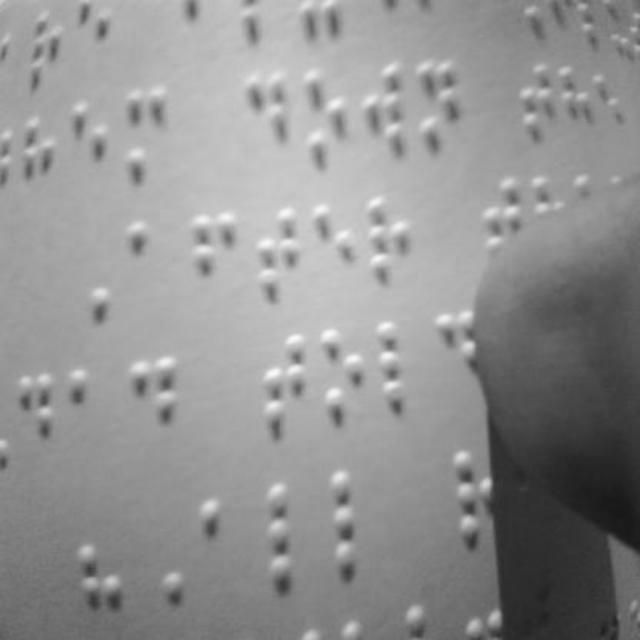braiile: (329, 464, 396, 580), (446, 438, 510, 556), (265, 478, 325, 594), (248, 192, 304, 306), (124, 356, 182, 466), (255, 332, 315, 438), (310, 201, 366, 311), (316, 320, 372, 430), (200, 490, 254, 602), (378, 316, 434, 420), (5, 368, 60, 472), (122, 81, 174, 187), (366, 192, 418, 298), (66, 99, 116, 209), (187, 207, 237, 317), (68, 362, 120, 464), (361, 59, 411, 165), (299, 72, 351, 172), (244, 68, 292, 175), (412, 54, 462, 156), (127, 219, 177, 317), (512, 60, 552, 148)
